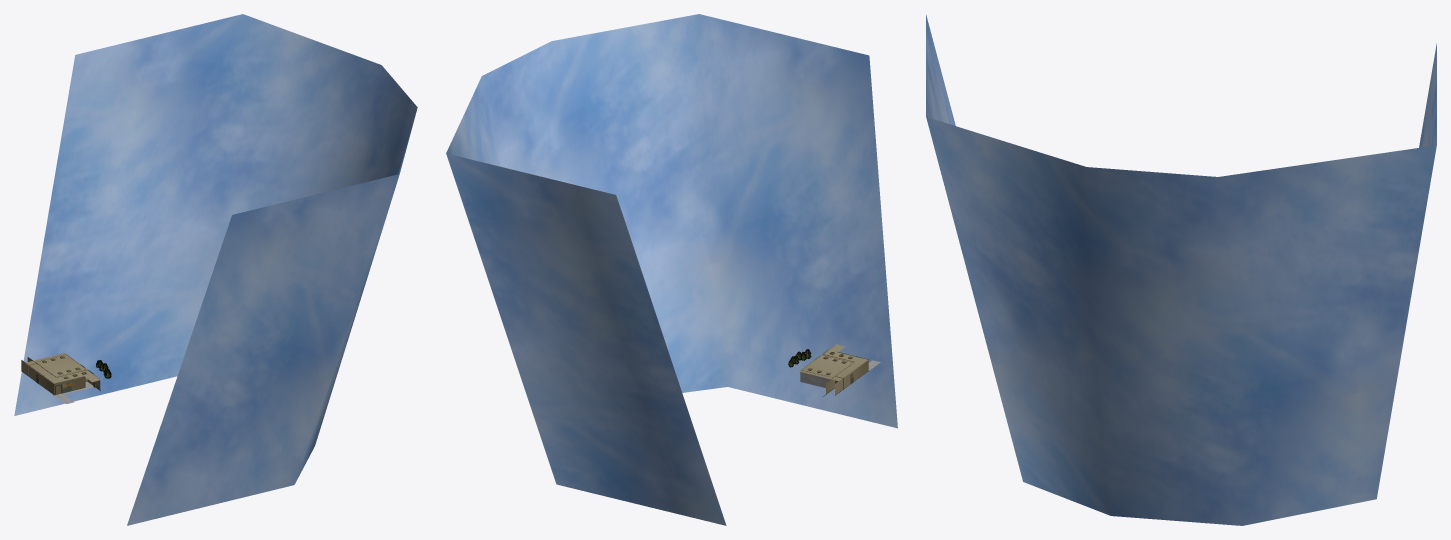
The model's file is olivermath-1.obj.
3 renders of one model, left to right at view 1: azimuth 30°, elevation 25°; view 2: azimuth 150°, elevation 25°; view 3: azimuth 270°, elevation 25°, orthographic. The views are drawn at different scales.
Visible parts, largest first — view 1: Plane.001_Plane.022, box.022_Mesh.1641, Plane.002_Plane.012; view 2: Plane.001_Plane.022, box.022_Mesh.1641, Plane.002_Plane.012; view 3: Plane.001_Plane.022.
Boxes of the visible parts, left/top/right/bottom form: Plane.001_Plane.022: left=14, top=14, right=417, bottom=525; box.022_Mesh.1641: left=25, top=353, right=101, bottom=383; Plane.002_Plane.012: left=21, top=357, right=87, bottom=395; Plane.001_Plane.022: left=446, top=14, right=897, bottom=525; box.022_Mesh.1641: left=799, top=344, right=868, bottom=381; Plane.002_Plane.012: left=823, top=352, right=868, bottom=395; Plane.001_Plane.022: left=926, top=14, right=1436, bottom=525.
Size of the model in its own units: 1287 by 1119 by 1276.
